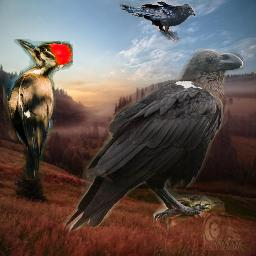Crow: (63, 49, 243, 233), (119, 1, 196, 42)
Woodpecker: (1, 39, 73, 180)
